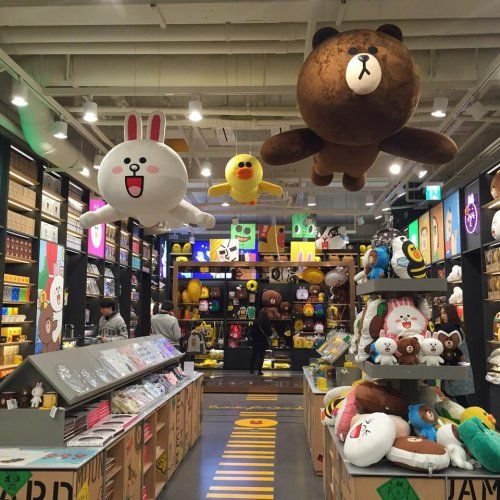line_brown: (291, 26, 431, 147), (36, 299, 60, 344), (257, 284, 287, 310), (394, 333, 425, 358)
